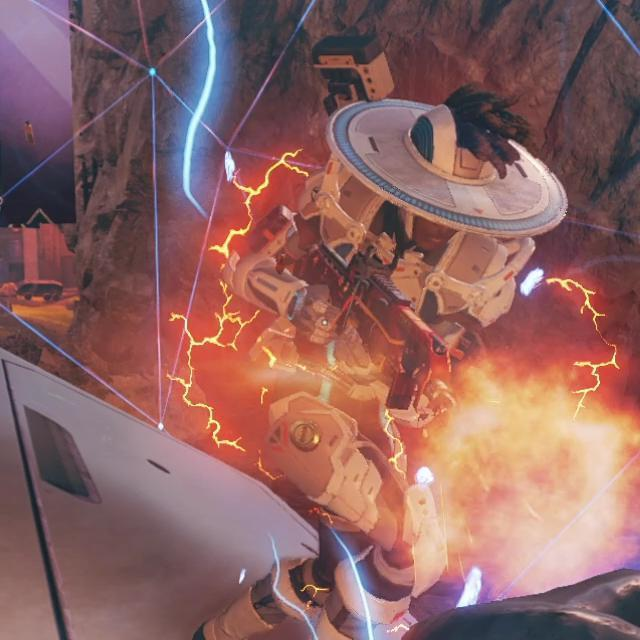avatar: (184, 81, 571, 640)
